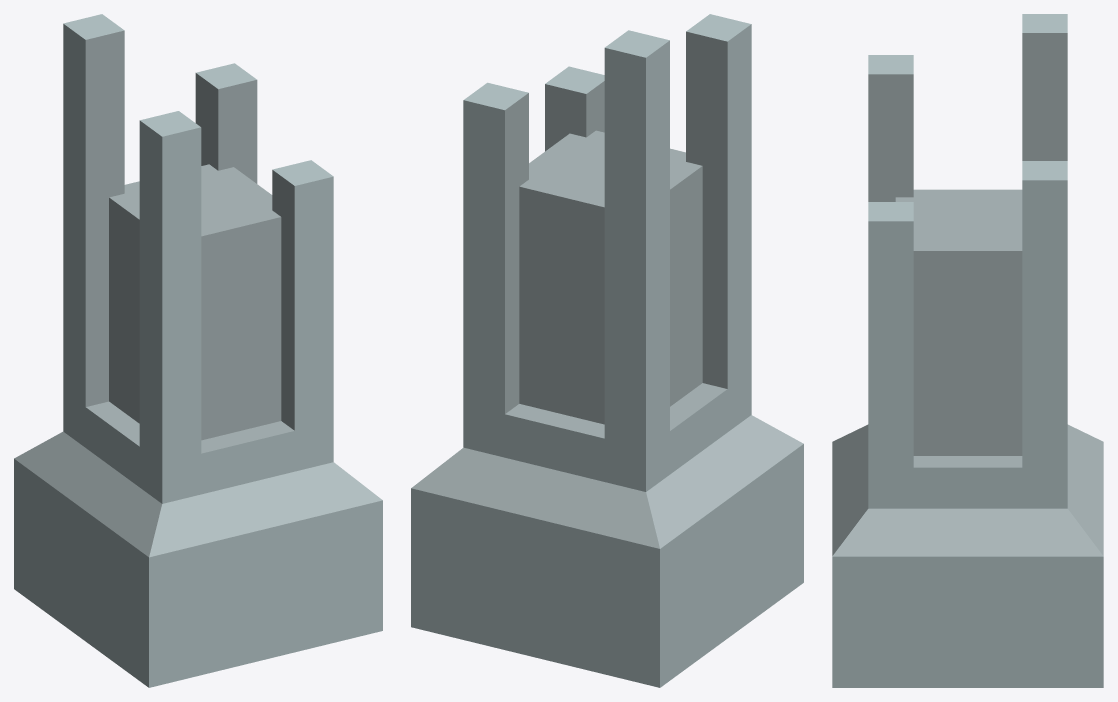
Rendered from statue_columnDamaged.glb.
3 views of the same model, side by side, from view 1: azimuth 30°, elevation 25°; view 2: azimuth 150°, elevation 25°; view 3: azimuth 270°, elevation 25° (orthographic). The views are drawn at different scales.
Parts seen in each view (by area): view 1: statue_columnDamaged; view 2: statue_columnDamaged; view 3: statue_columnDamaged.
Part boxes in pixels (left/top/right/bottom): statue_columnDamaged: left=14, top=14, right=382, bottom=687; statue_columnDamaged: left=411, top=14, right=803, bottom=687; statue_columnDamaged: left=832, top=14, right=1103, bottom=687.
Bounding box in the file's own units: 0.3 × 0.7 × 0.3.
